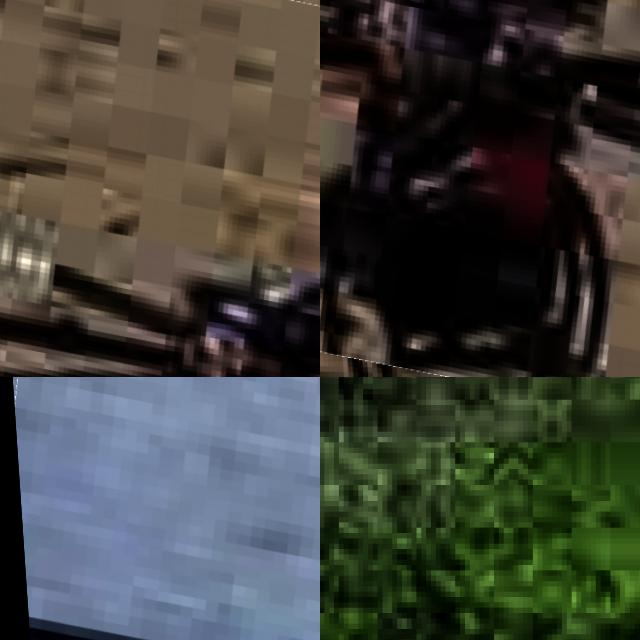drone: (0, 0, 320, 377), (320, 0, 640, 377), (0, 377, 320, 640)
